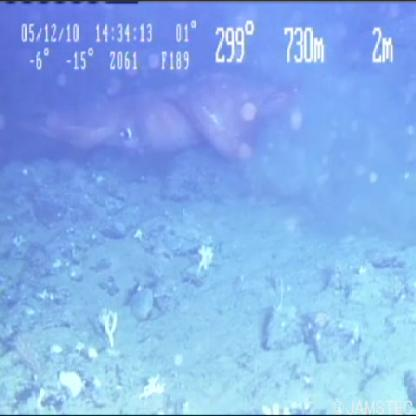Bio: (7, 74, 308, 168)
